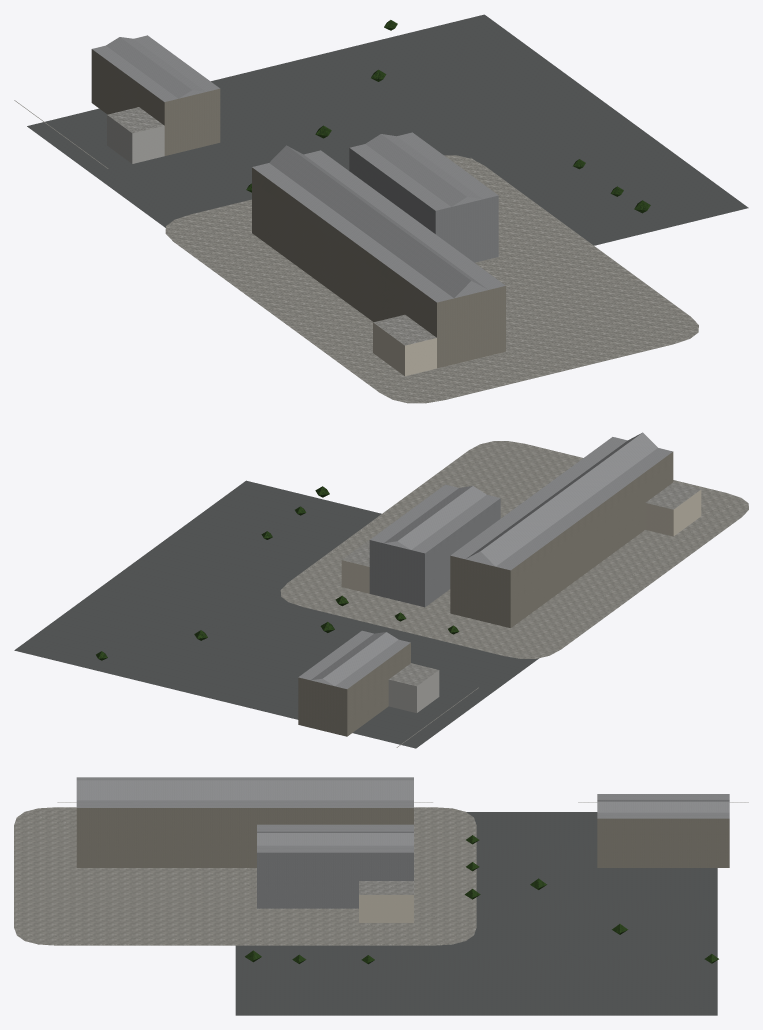
The model's file is cidade_S07_01_lod.gltf.
3 views of the same model, one above another, from view 1: azimuth 30°, elevation 25°; view 2: azimuth 150°, elevation 25°; view 3: azimuth 270°, elevation 25° (orthographic). The views are drawn at different scales.
Visible parts, largest first — view 1: S07_01_Chao_LOD2, S07_01_Edificios_LOD1, S07_01_Silhueta_LOD2, S07_01_Vegetacao_LOD2; view 2: S07_01_Chao_LOD2, S07_01_Edificios_LOD1, S07_01_Silhueta_LOD2, S07_01_Vegetacao_LOD2; view 3: S07_01_Chao_LOD2, S07_01_Edificios_LOD1, S07_01_Silhueta_LOD2, S07_01_Vegetacao_LOD2.
Boxes of the visible parts, x1,y1,x2,y2 form: S07_01_Chao_LOD2: (27,14,748,403); S07_01_Edificios_LOD1: (14,37,577,377); S07_01_Silhueta_LOD2: (91,35,505,367); S07_01_Vegetacao_LOD2: (246,20,650,213); S07_01_Chao_LOD2: (14,441,748,748); S07_01_Edificios_LOD1: (298,432,729,747); S07_01_Silhueta_LOD2: (298,437,673,735); S07_01_Vegetacao_LOD2: (96,486,459,660); S07_01_Chao_LOD2: (14,807,717,1015); S07_01_Edificios_LOD1: (57,780,748,928); S07_01_Silhueta_LOD2: (76,777,729,908); S07_01_Vegetacao_LOD2: (245,835,718,964).
Size of the model in its own units: 102 by 16.72 by 152.
9 materials, 9 textured.
